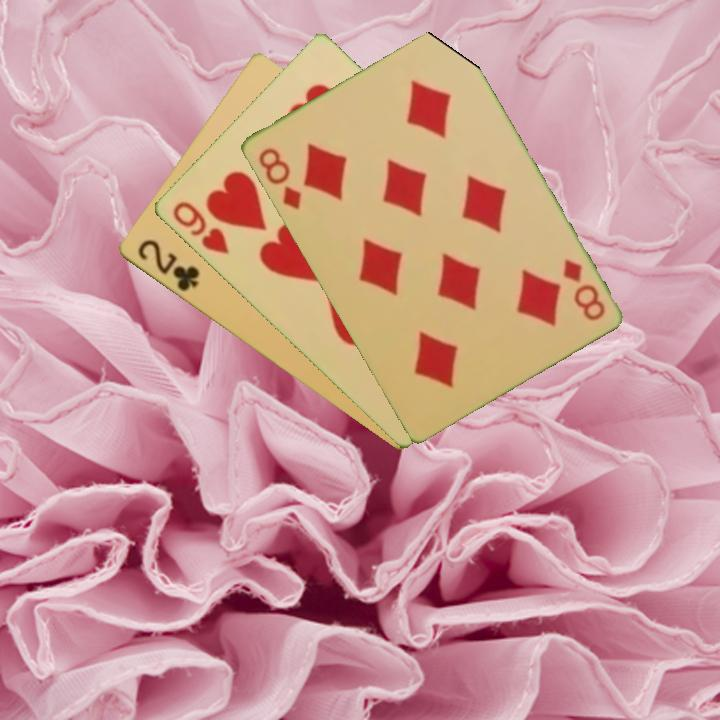2c: (133, 235, 202, 295)
8d: (254, 143, 304, 213), (558, 255, 608, 324)
9h: (168, 198, 232, 257)
